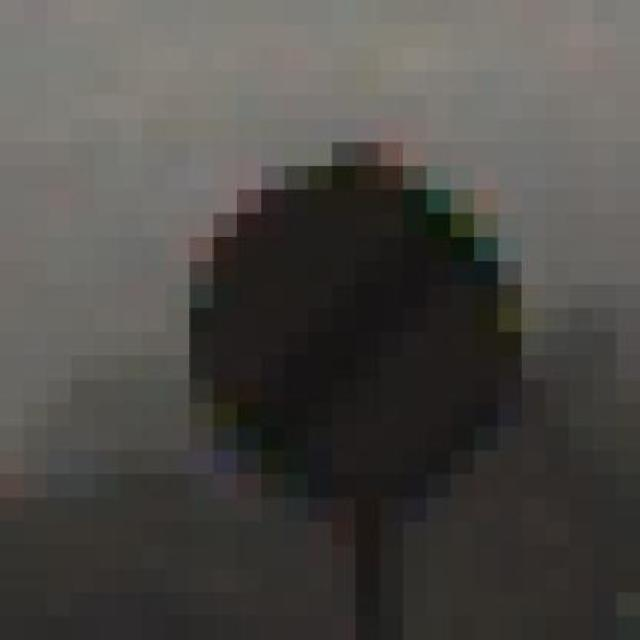End of all speed and passing limits: (118, 142, 592, 546)
